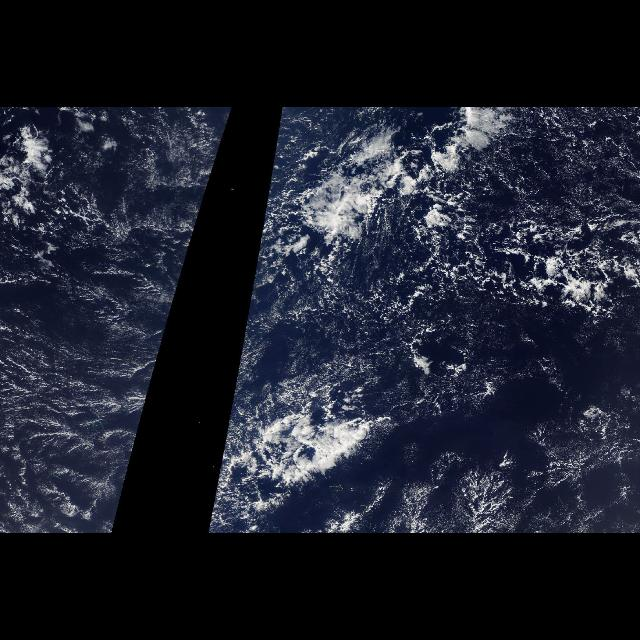Fish: (208, 399, 392, 527)
Gravel: (226, 111, 640, 432), (8, 201, 204, 433)
Sugar: (3, 109, 199, 525), (374, 393, 638, 533), (474, 115, 640, 212)
